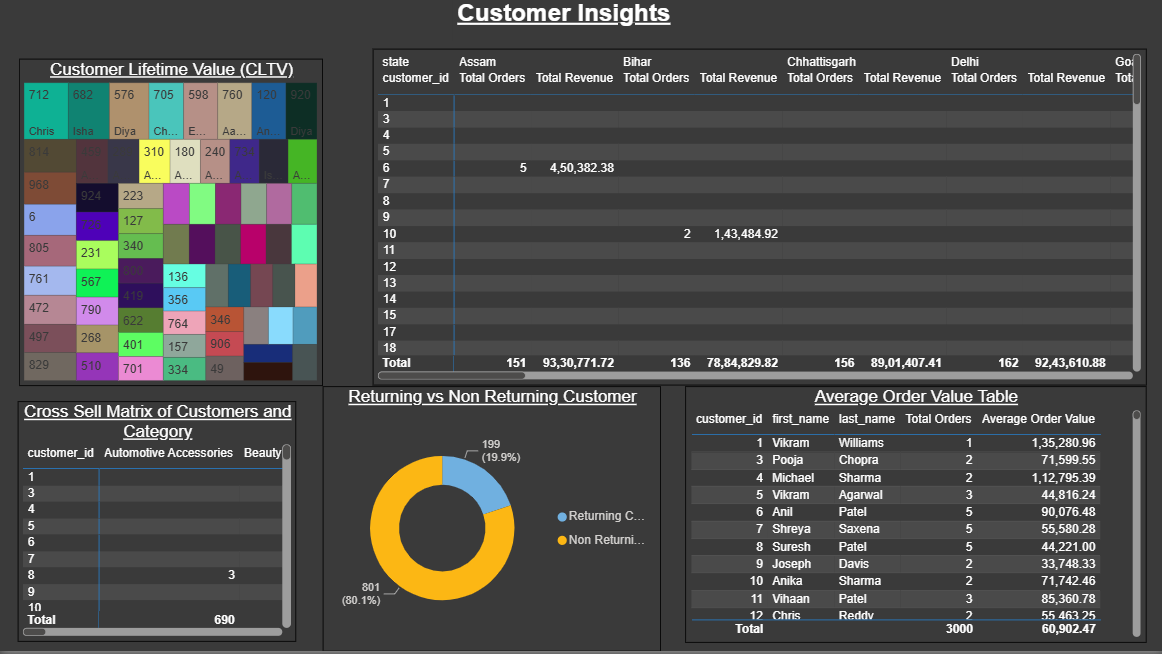

Layout of this report page (visuals, bound fields, positions):
{"tool":"powerbi","page":{"name":"Page 4","canvas":[1280,720],"ordinal":3},"visuals":[{"type":"treemap","title":"Customer Lifetime Value (CLTV)","fields":{"Group":["customer.customer_id"],"Details":["customer.first_name"],"Values":["Measures (2).Total Revenue"]},"box":[21.7,69.6,333.5,359.6],"z":0},{"type":"pivotTable","title":"Cross Sell Matrix of Customers and Category","fields":{"Rows":["customer.customer_id"],"Columns":["category.category_name"],"Values":["Measures (2).Total Units Sold"]},"box":[20.3,446.6,305.9,263.9],"z":1000},{"type":"pivotTable","fields":{"Rows":["customer.customer_id"],"Columns":["customer.state"],"Values":["Measures (2).Total Orders","Measures (2).Total Revenue"]},"box":[410.3,59.4,849.7,369.7],"z":2000},{"type":"donutChart","title":"Returning vs Non Returning Customer","fields":{"Y":["Measures (2).Returning Customers","Measures (2).Non Returning Customer"]},"box":[355.2,429.2,371.2,291.4],"z":3000},{"type":"tableEx","title":"Average Order Value Table","fields":{"Values":["customer.customer_id","customer.first_name","customer.last_name","Measures (2).Total Orders","Measures (2).Average Order Value"]},"box":[754,429.2,506,281.3],"z":4000},{"type":"textbox","box":[498.8,0,255.2,50.7],"z":5000}]}

Visuals, with their boxes in screenshot pixels (x1, y1, x2, y2), scaled from the page's 1280x720 canvas onto the 1162x654 screenshot:
"Customer Lifetime Value (CLTV)" treemap: 20,63,322,390
"Cross Sell Matrix of Customers and Category" pivotTable: 18,406,296,645
pivotTable - customer.customer_id x customer.state: 372,54,1144,390
"Returning vs Non Returning Customer" donutChart: 322,390,659,653
"Average Order Value Table" tableEx: 684,390,1144,645
textbox: 453,0,684,46
